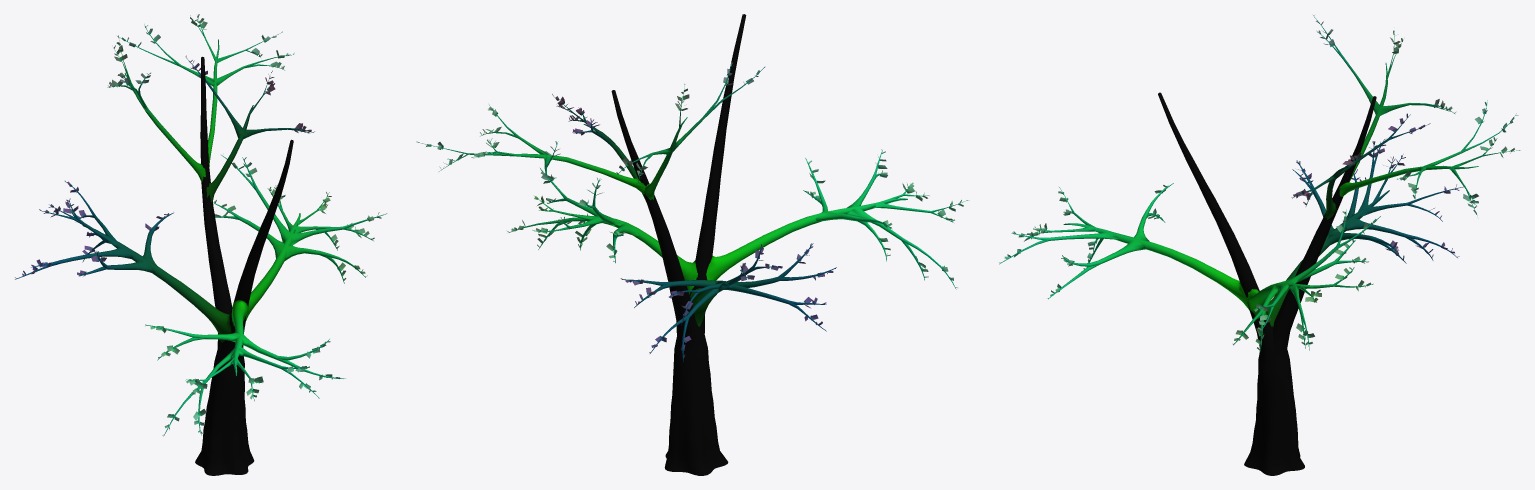
File: Tree1_FBX.fbx
The picture shows the model from 3 angles, left to right: view 1: azimuth 30°, elevation 25°; view 2: azimuth 150°, elevation 25°; view 3: azimuth 270°, elevation 25°; orthographic projection. The views are drawn at different scales.
Visible parts, largest first — view 1: Tree_0, Tree_1; view 2: Tree_0, Tree_1; view 3: Tree_0, Tree_1.
Part boxes in pixels (x1=…): Tree_0: x1=15, y1=19, x2=385, y2=475; Tree_1: x1=15, y1=14, x2=387, y2=435; Tree_0: x1=419, y1=14, x2=967, y2=475; Tree_1: x1=416, y1=62, x2=969, y2=358; Tree_0: x1=999, y1=15, x2=1519, y2=475; Tree_1: x1=999, y1=15, x2=1519, y2=351.
Size of the model in its own units: 351 by 417 by 479.
